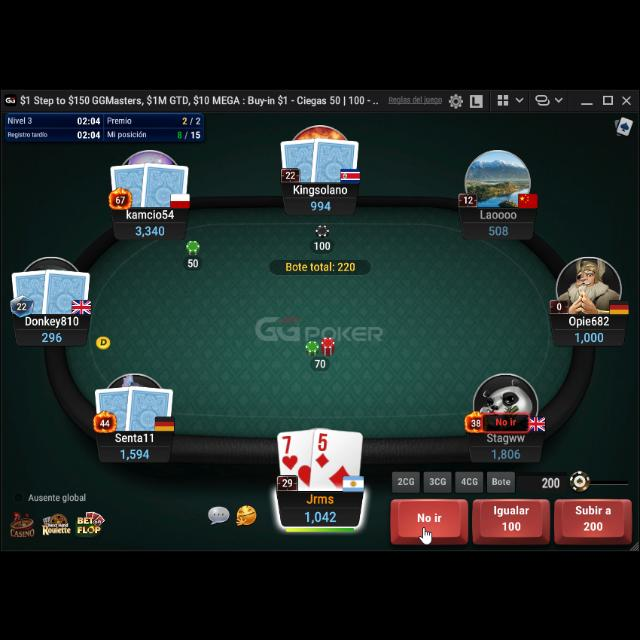5d: (315, 428, 331, 468)
7h: (281, 434, 301, 471)
bet_text: (312, 355, 328, 367), (314, 238, 332, 248), (187, 254, 200, 266)
card_back: (124, 379, 174, 429), (42, 263, 92, 313), (140, 157, 190, 206), (310, 132, 360, 180), (10, 265, 52, 313), (109, 158, 151, 206), (279, 134, 321, 180), (94, 382, 134, 430)
dealer: (95, 331, 112, 347)
hero_active: (385, 493, 639, 543)
pot_text: (283, 256, 357, 270)
stack_text: (302, 504, 338, 522), (491, 442, 522, 458), (134, 219, 166, 233), (575, 326, 605, 340), (120, 444, 150, 456), (41, 326, 64, 340), (310, 195, 332, 208), (488, 220, 508, 234)
